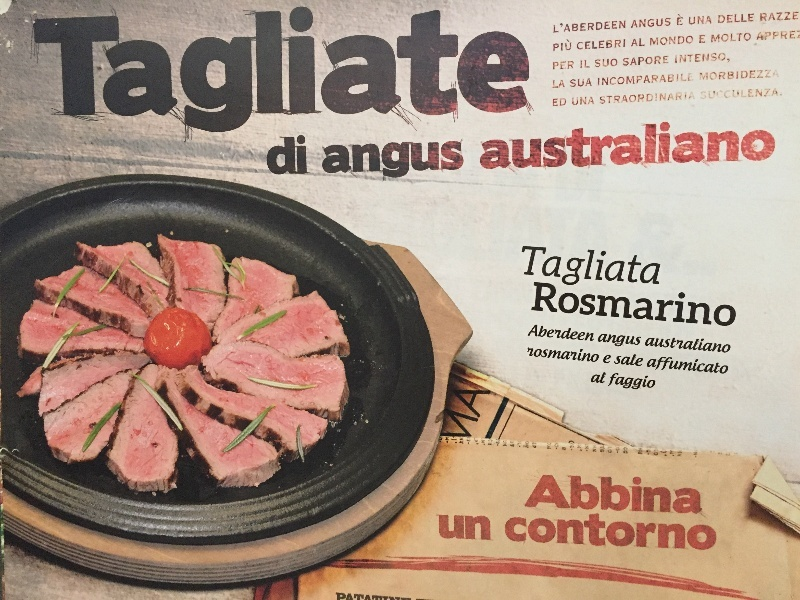text: (33, 4, 48, 142), (49, 4, 64, 142), (65, 4, 80, 142), (81, 4, 96, 142), (97, 4, 112, 142), (113, 4, 128, 142), (129, 4, 144, 142), (145, 4, 160, 142), (161, 4, 176, 142), (177, 4, 192, 142), (193, 4, 208, 142), (209, 4, 224, 142), (225, 4, 240, 142), (241, 4, 256, 142), (257, 4, 272, 142), (273, 4, 288, 142), (289, 4, 304, 142), (305, 4, 320, 142), (321, 4, 336, 142), (337, 4, 352, 142), (353, 4, 368, 142), (369, 4, 384, 142), (385, 4, 400, 142), (401, 4, 416, 142), (417, 4, 432, 142), (433, 4, 448, 142), (449, 4, 464, 142), (465, 4, 480, 142), (481, 4, 496, 142), (497, 4, 512, 142), (513, 4, 528, 142), (481, 110, 496, 171), (497, 110, 512, 171), (513, 110, 528, 171), (529, 110, 544, 171), (545, 110, 560, 171), (561, 110, 576, 171), (577, 110, 592, 171), (593, 110, 608, 171), (609, 110, 624, 171), (625, 110, 640, 171), (641, 110, 656, 171), (657, 110, 672, 171), (673, 110, 688, 171), (689, 110, 704, 171), (705, 110, 720, 171), (721, 110, 736, 171), (737, 110, 752, 171), (753, 110, 768, 171), (529, 4, 535, 142), (545, 280, 560, 330), (561, 280, 576, 330), (577, 280, 592, 330), (593, 280, 608, 330), (609, 280, 624, 330), (625, 280, 640, 330), (641, 280, 656, 330), (657, 280, 672, 330), (673, 280, 688, 330), (689, 280, 704, 330), (705, 280, 720, 330), (721, 280, 736, 330), (529, 245, 544, 291), (545, 245, 560, 291), (561, 245, 576, 291), (577, 245, 592, 291), (593, 245, 608, 291), (609, 245, 624, 291), (625, 245, 640, 291), (641, 245, 656, 291), (689, 474, 705, 515), (545, 474, 560, 515), (561, 474, 576, 515), (577, 474, 592, 515), (593, 474, 608, 515), (609, 474, 624, 515), (625, 474, 640, 515), (641, 474, 656, 515), (657, 474, 672, 515), (673, 474, 688, 515), (513, 512, 528, 553), (529, 512, 544, 553), (545, 512, 560, 553), (561, 512, 576, 553), (577, 512, 592, 553), (593, 512, 608, 553), (609, 512, 624, 553), (625, 512, 640, 553), (641, 512, 656, 553), (657, 512, 672, 553), (673, 512, 688, 553), (689, 512, 704, 553), (337, 141, 352, 182), (353, 141, 368, 182), (369, 141, 384, 182), (385, 141, 400, 182), (401, 141, 416, 182), (417, 141, 432, 182), (433, 141, 448, 182), (449, 141, 464, 182), (273, 135, 288, 175), (289, 135, 304, 175), (465, 383, 480, 420), (533, 280, 544, 330), (323, 141, 336, 182), (705, 512, 717, 553), (769, 110, 777, 171), (449, 408, 464, 437), (481, 383, 492, 420), (465, 408, 479, 437), (449, 514, 464, 541), (465, 514, 480, 541), (454, 383, 464, 420), (521, 245, 528, 291), (657, 355, 672, 375), (673, 355, 688, 375), (689, 355, 704, 375), (705, 355, 720, 375), (625, 373, 640, 393), (641, 373, 656, 393), (609, 331, 624, 350), (625, 331, 640, 350), (545, 324, 560, 342), (561, 324, 576, 342), (577, 324, 592, 342), (657, 336, 672, 354), (673, 336, 688, 354), (689, 336, 704, 354), (705, 336, 720, 354), (481, 514, 491, 541), (529, 346, 544, 363), (545, 346, 560, 363), (561, 346, 576, 363), (577, 346, 592, 363), (439, 514, 448, 541), (612, 373, 624, 393), (625, 353, 640, 367), (609, 91, 624, 105), (625, 91, 640, 105), (641, 91, 656, 105), (657, 91, 672, 105), (673, 91, 688, 105), (609, 73, 624, 87), (625, 73, 640, 87), (641, 73, 656, 87), (657, 73, 672, 87), (673, 73, 688, 87), (507, 512, 512, 553), (267, 135, 272, 175), (305, 135, 310, 175), (657, 245, 661, 291), (594, 371, 608, 384), (721, 336, 731, 354), (577, 21, 592, 33), (593, 21, 608, 33), (609, 21, 624, 33), (577, 39, 592, 51), (593, 39, 608, 51), (609, 39, 624, 51), (689, 52, 704, 64), (705, 52, 720, 64), (625, 55, 640, 67), (641, 55, 656, 67), (705, 69, 720, 81), (721, 69, 736, 81), (737, 69, 752, 81), (753, 69, 768, 81), (705, 88, 720, 100), (721, 88, 736, 100), (737, 88, 752, 100), (753, 88, 768, 100), (769, 88, 784, 100), (641, 18, 656, 29), (657, 35, 672, 46), (673, 35, 688, 46), (535, 324, 544, 342), (721, 355, 729, 375), (577, 78, 593, 88), (675, 52, 688, 64), (561, 38, 572, 52), (657, 18, 671, 29), (689, 16, 704, 26), (721, 14, 736, 24), (737, 14, 752, 24), (721, 33, 736, 43), (737, 33, 752, 43), (769, 12, 784, 22), (769, 31, 784, 41), (657, 55, 669, 67), (677, 13, 688, 26), (785, 12, 799, 22), (561, 61, 575, 71), (598, 73, 608, 87), (31, 4, 32, 142), (577, 97, 592, 106), (601, 331, 608, 350), (769, 69, 780, 81), (595, 58, 608, 68), (649, 336, 656, 354), (566, 21, 576, 33), (721, 52, 731, 64), (337, 592, 352, 600), (353, 592, 368, 600), (369, 592, 384, 600), (385, 592, 400, 600), (593, 346, 600, 363), (600, 91, 608, 105), (785, 31, 796, 41), (651, 355, 656, 375), (581, 60, 592, 69), (617, 353, 624, 367), (553, 38, 560, 52), (689, 91, 696, 105), (759, 31, 768, 41), (609, 58, 618, 68), (401, 592, 412, 600), (445, 408, 448, 437), (705, 16, 713, 26), (712, 33, 720, 43), (760, 12, 768, 22), (553, 23, 560, 34), (552, 98, 560, 107), (553, 61, 560, 71), (553, 79, 560, 89), (689, 73, 694, 87), (634, 18, 640, 29), (650, 35, 656, 46), (634, 38, 640, 48), (570, 78, 576, 88), (689, 35, 694, 46), (561, 98, 567, 107), (737, 280, 738, 330), (561, 79, 566, 89), (700, 69, 704, 81), (641, 353, 644, 367), (543, 474, 544, 515), (641, 38, 645, 48), (593, 324, 595, 342), (700, 35, 704, 44), (572, 97, 576, 106), (701, 88, 704, 100), (561, 23, 564, 34), (609, 354, 612, 364), (797, 30, 800, 39), (606, 354, 608, 364), (718, 14, 720, 24), (753, 14, 755, 24), (641, 331, 642, 350), (593, 97, 595, 106), (625, 21, 626, 33), (625, 39, 626, 51), (623, 55, 624, 67), (705, 35, 706, 44)
